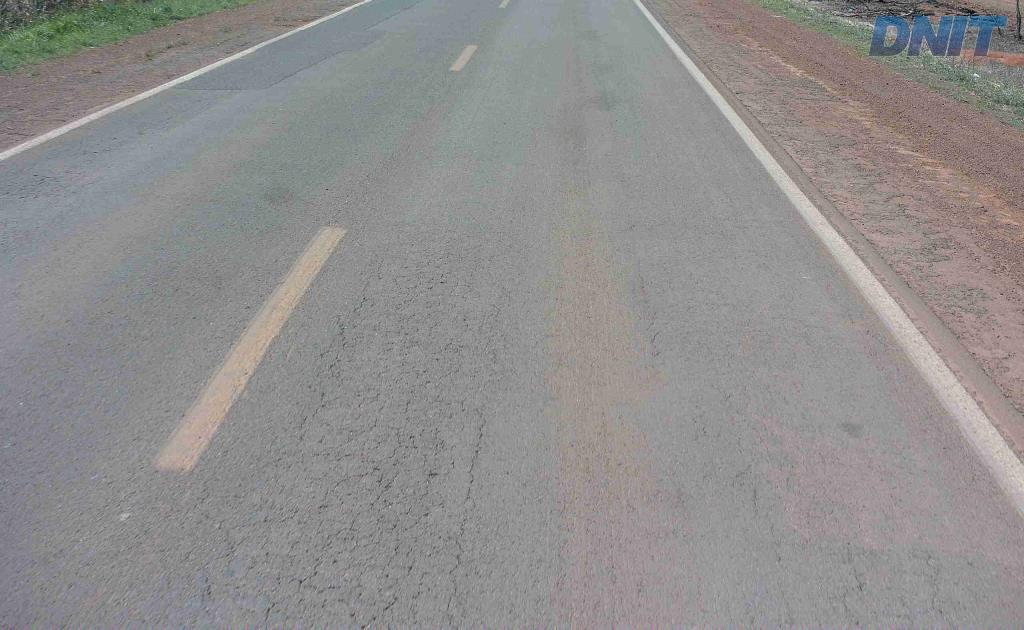crack: (255, 510, 373, 612), (392, 425, 447, 547), (321, 441, 407, 519), (209, 529, 250, 575), (360, 509, 408, 548), (319, 338, 353, 387)
